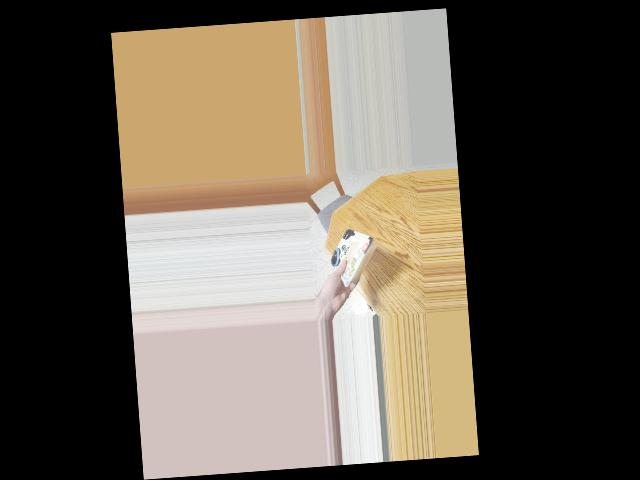cheese: (327, 222, 387, 283)
